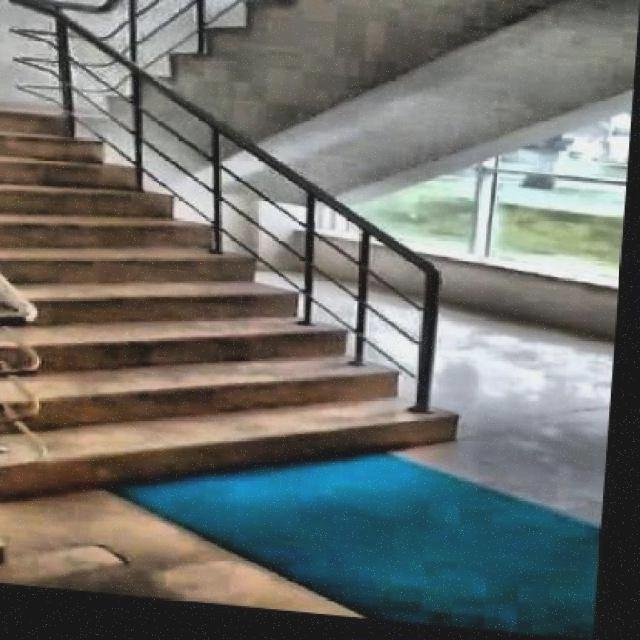stair: (1, 90, 497, 554)
